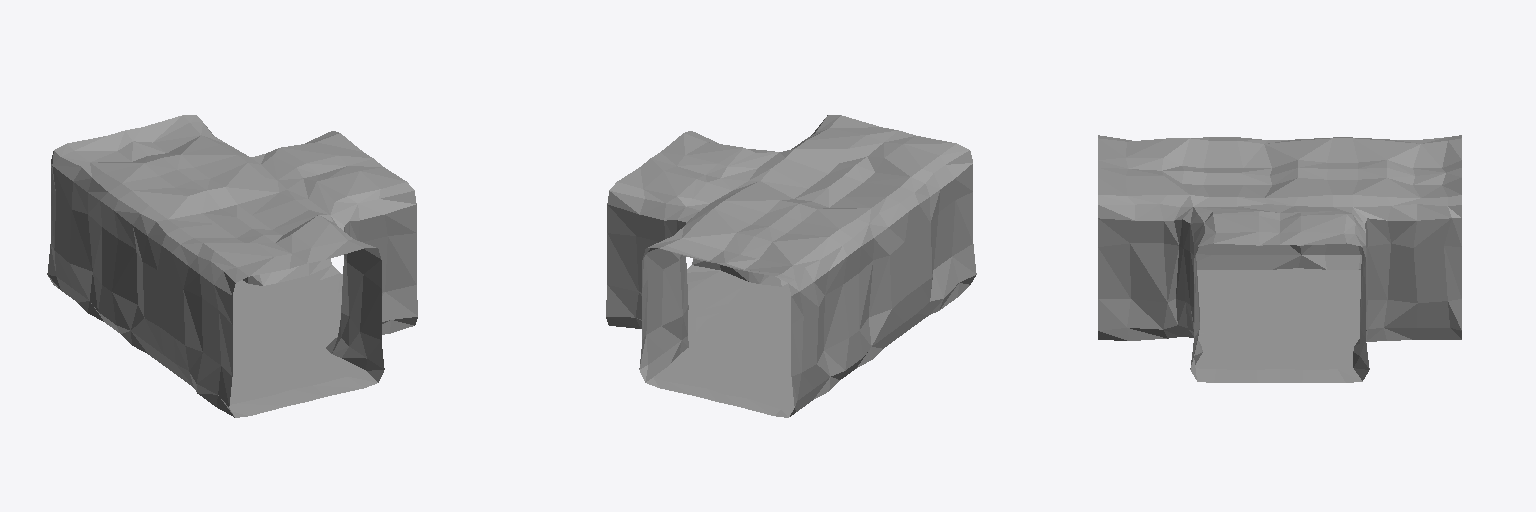
The model's file is Shaft_TSection.obj.
The picture shows the model from 3 angles: view 1: azimuth 30°, elevation 25°; view 2: azimuth 150°, elevation 25°; view 3: azimuth 270°, elevation 25°; orthographic projection.
Parts seen in each view (by area): view 1: Shaft_TSection; view 2: Shaft_TSection; view 3: Shaft_TSection.
Boxes of the visible parts, x1=… form: Shaft_TSection: x1=47, y1=115, x2=417, y2=417; Shaft_TSection: x1=606, y1=115, x2=976, y2=417; Shaft_TSection: x1=1098, y1=135, x2=1461, y2=382.
Size of the model in its own units: 4.46 by 2.54 by 5.98.